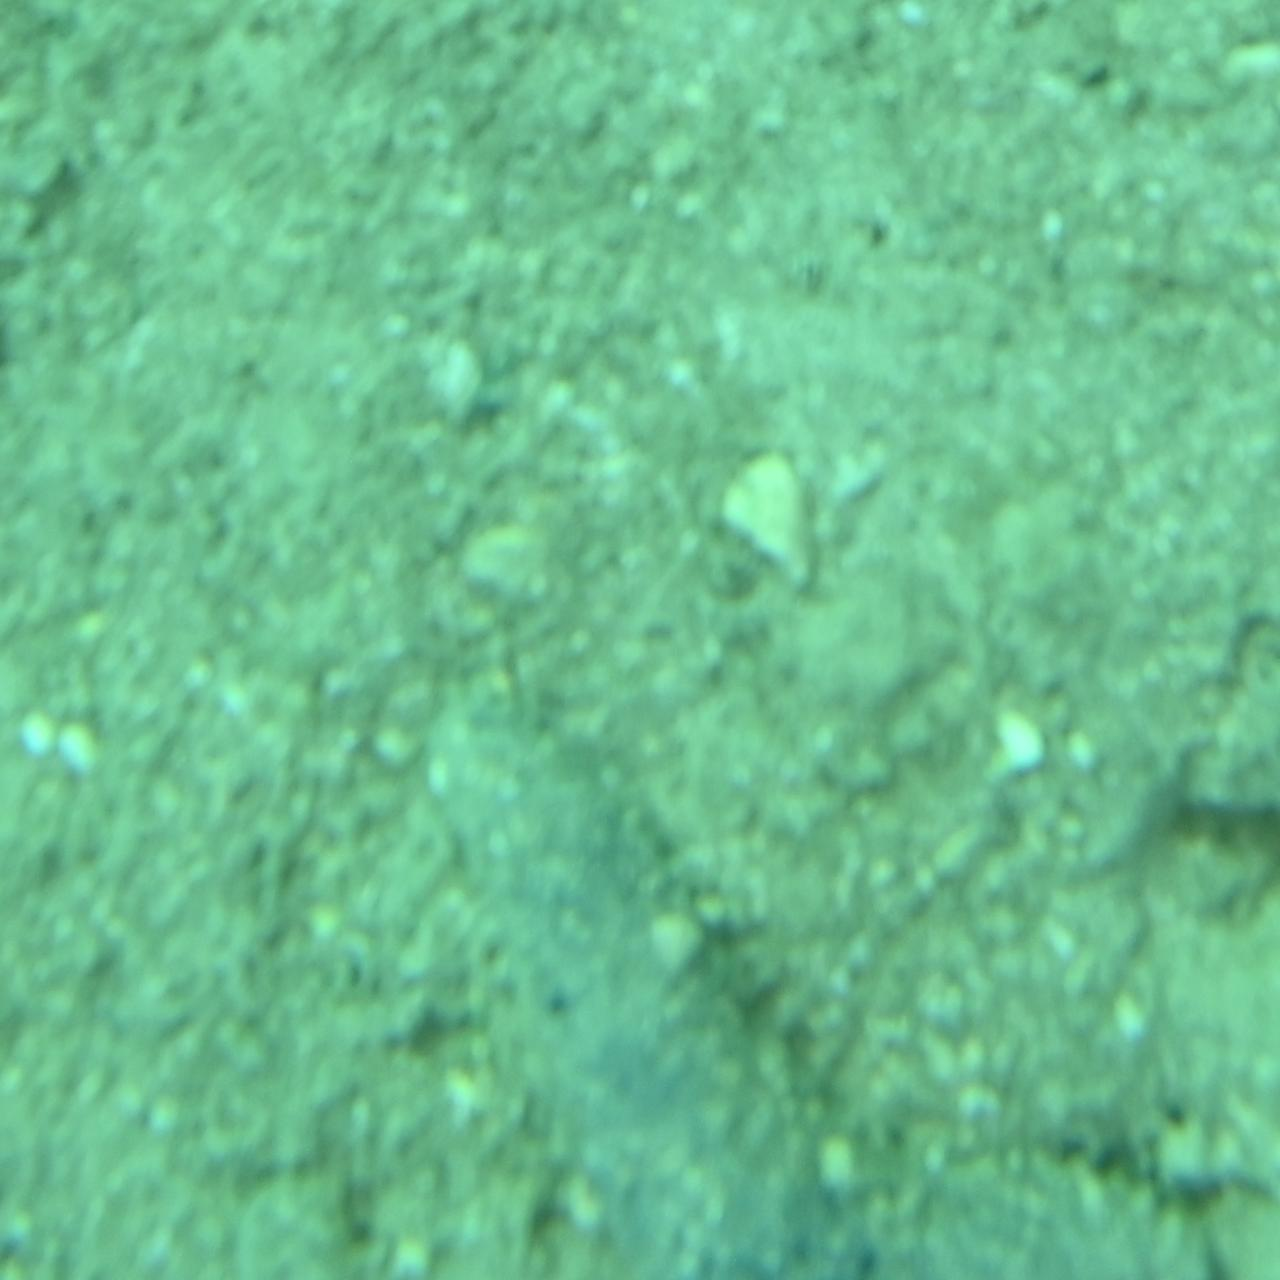Holothuria tubulosa: (408, 682, 872, 1279)
